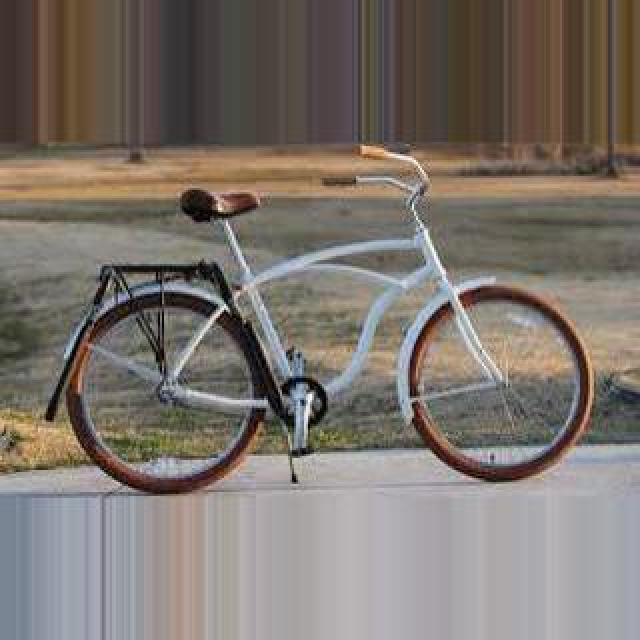Person: (55, 155, 595, 491)
